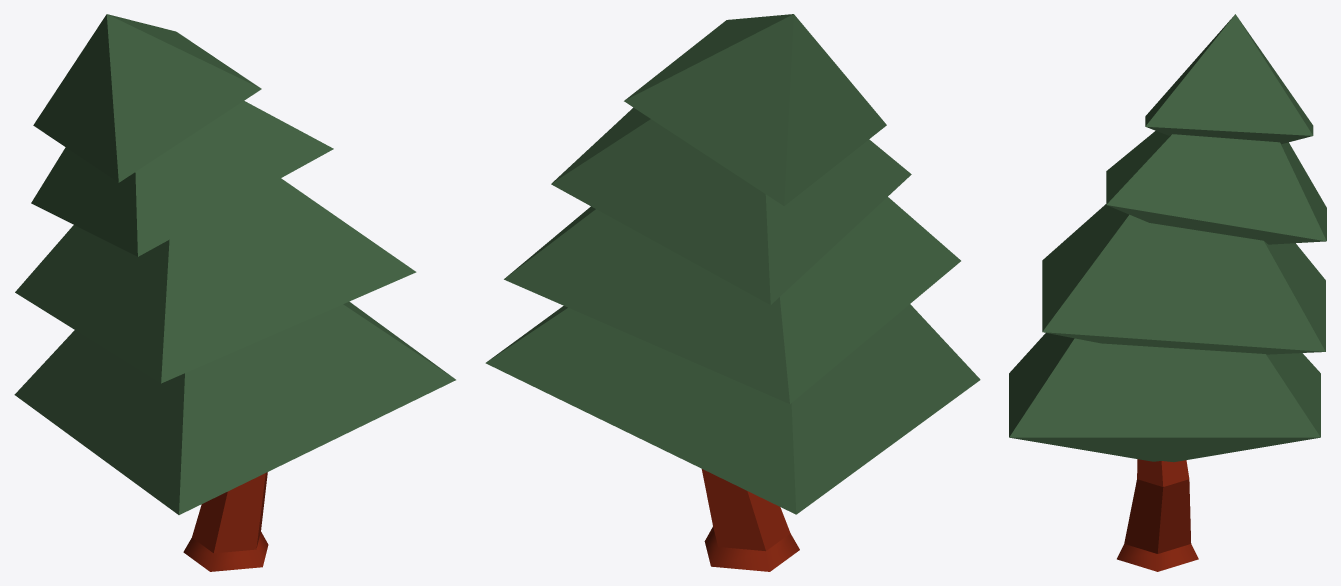
Rendered from Tree5.FBX.
3 renders of one model, left to right at view 1: azimuth 30°, elevation 25°; view 2: azimuth 150°, elevation 25°; view 3: azimuth 270°, elevation 25°, orthographic. The views are drawn at different scales.
Parts seen in each view (by area): view 1: Hedra013, Hedra014, Hedra012, Hedra011, Tree5; view 2: Hedra013, Hedra014, Hedra011, Hedra012, Tree5; view 3: Hedra014, Hedra013, Hedra011, Hedra012, Tree5.
Boxes of the visible parts, left/top/right/bottom form: Hedra013: left=14, top=301, right=455, bottom=514; Hedra014: left=15, top=178, right=416, bottom=383; Hedra012: left=33, top=14, right=261, bottom=182; Hedra011: left=31, top=101, right=333, bottom=256; Tree5: left=183, top=472, right=268, bottom=571; Hedra013: left=485, top=304, right=980, bottom=514; Hedra014: left=504, top=197, right=960, bottom=403; Hedra011: left=551, top=107, right=911, bottom=305; Hedra012: left=624, top=14, right=886, bottom=205; Tree5: left=701, top=469, right=799, bottom=571; Hedra014: left=1042, top=204, right=1325, bottom=354; Hedra013: left=1009, top=333, right=1320, bottom=462; Hedra011: left=1106, top=131, right=1326, bottom=244; Hedra012: left=1145, top=14, right=1313, bottom=143; Tree5: left=1117, top=459, right=1198, bottom=571.
Size of the model in its own units: 654 by 1192 by 684.
